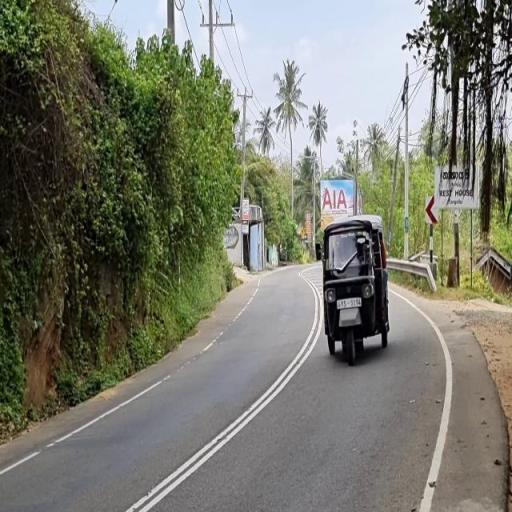double_white_line: (127, 281, 321, 512)
